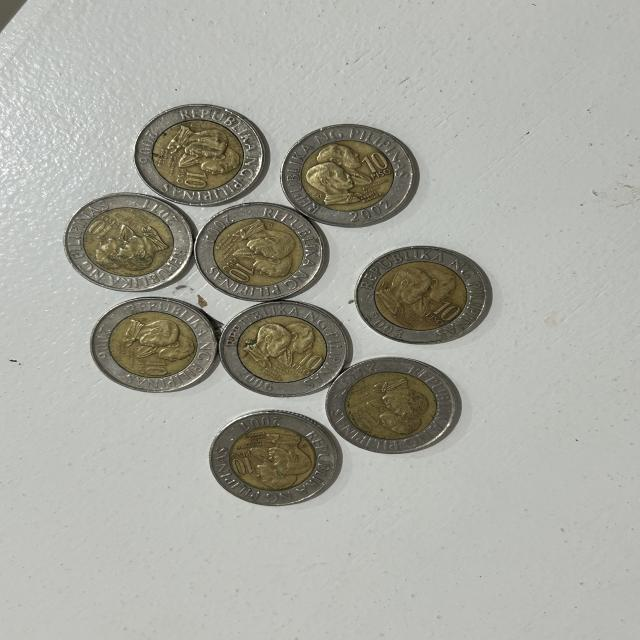10_Old_Front: (127, 356, 171, 384), (359, 148, 392, 185), (217, 252, 255, 284), (221, 449, 259, 481), (288, 347, 325, 378), (168, 166, 210, 192), (350, 408, 385, 436), (88, 213, 115, 246)
